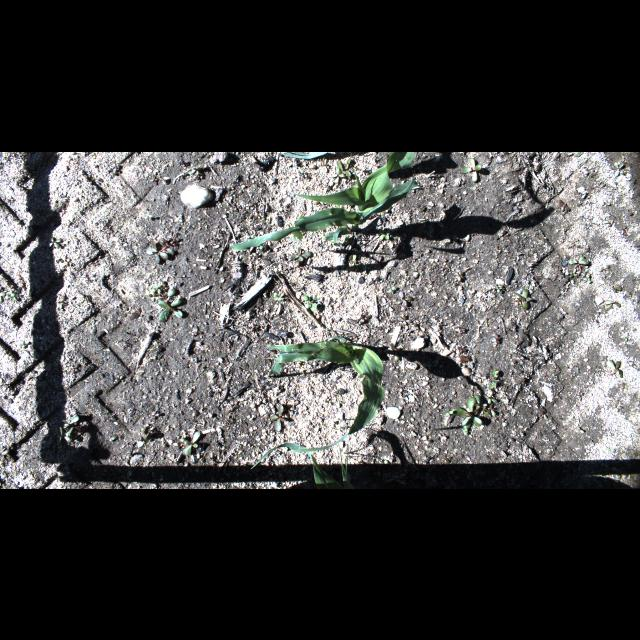crop: (250, 334, 388, 470), (229, 165, 416, 255), (309, 453, 351, 487), (276, 151, 336, 163), (385, 152, 415, 172)
weed: (446, 390, 496, 438), (157, 285, 185, 329), (560, 254, 596, 284), (264, 398, 290, 437), (144, 236, 174, 266), (456, 157, 486, 185), (177, 429, 205, 458), (330, 158, 356, 185), (1, 279, 26, 305), (288, 245, 314, 268), (388, 285, 410, 311), (296, 290, 324, 310), (514, 284, 534, 312), (42, 232, 68, 252), (486, 361, 502, 392), (602, 353, 624, 375), (158, 230, 182, 248), (394, 315, 424, 329), (598, 296, 624, 312), (148, 280, 168, 300), (350, 310, 374, 326), (53, 428, 73, 446), (187, 159, 206, 177), (67, 360, 85, 378), (608, 398, 626, 416), (136, 428, 152, 448), (612, 157, 628, 176), (454, 266, 468, 286), (554, 198, 570, 215), (54, 293, 70, 309), (618, 219, 632, 237), (491, 280, 505, 298), (330, 384, 346, 398), (349, 250, 363, 266), (294, 168, 316, 178), (612, 282, 632, 292), (270, 290, 284, 304), (18, 338, 32, 352), (622, 330, 636, 344), (572, 424, 588, 436), (376, 232, 394, 242), (64, 416, 80, 426), (570, 360, 580, 374), (108, 433, 120, 442), (599, 265, 613, 271), (144, 213, 152, 221)
